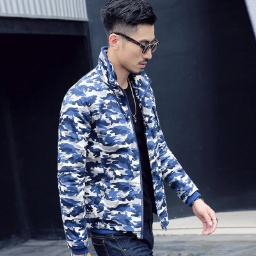face: (102, 1, 158, 77)
